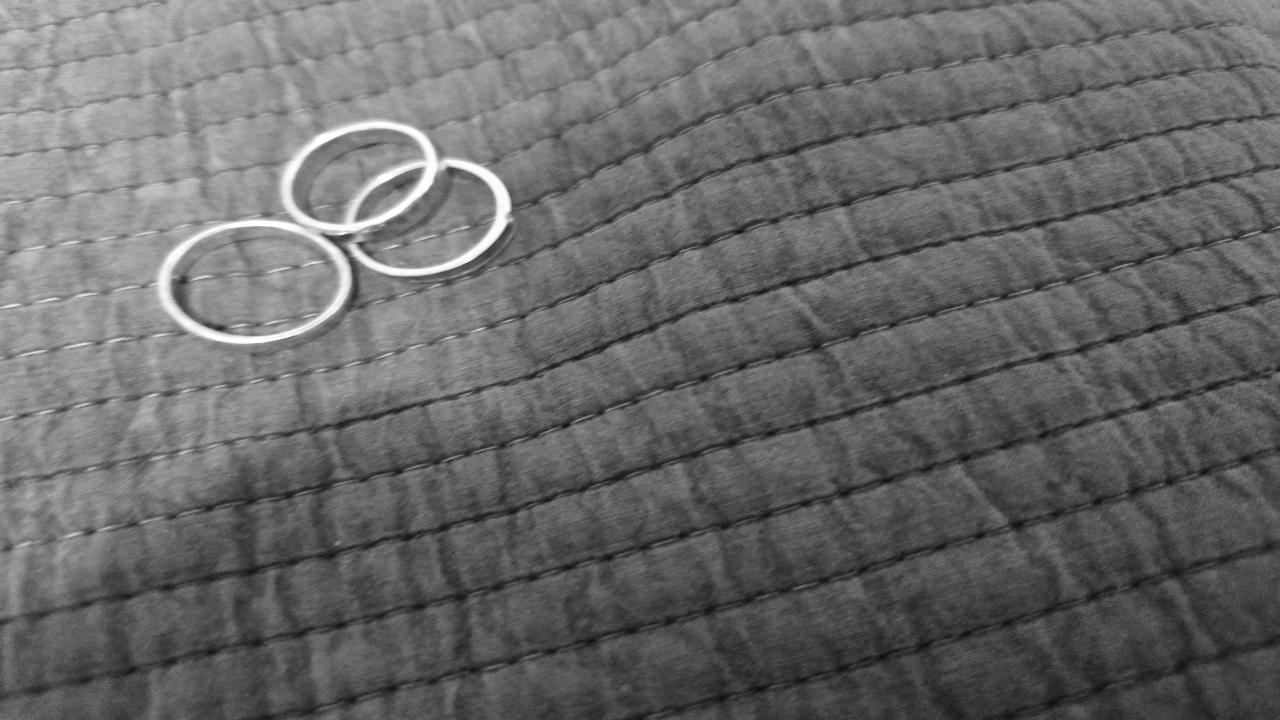ring: (156, 219, 354, 346), (343, 159, 514, 283), (278, 118, 443, 238)
